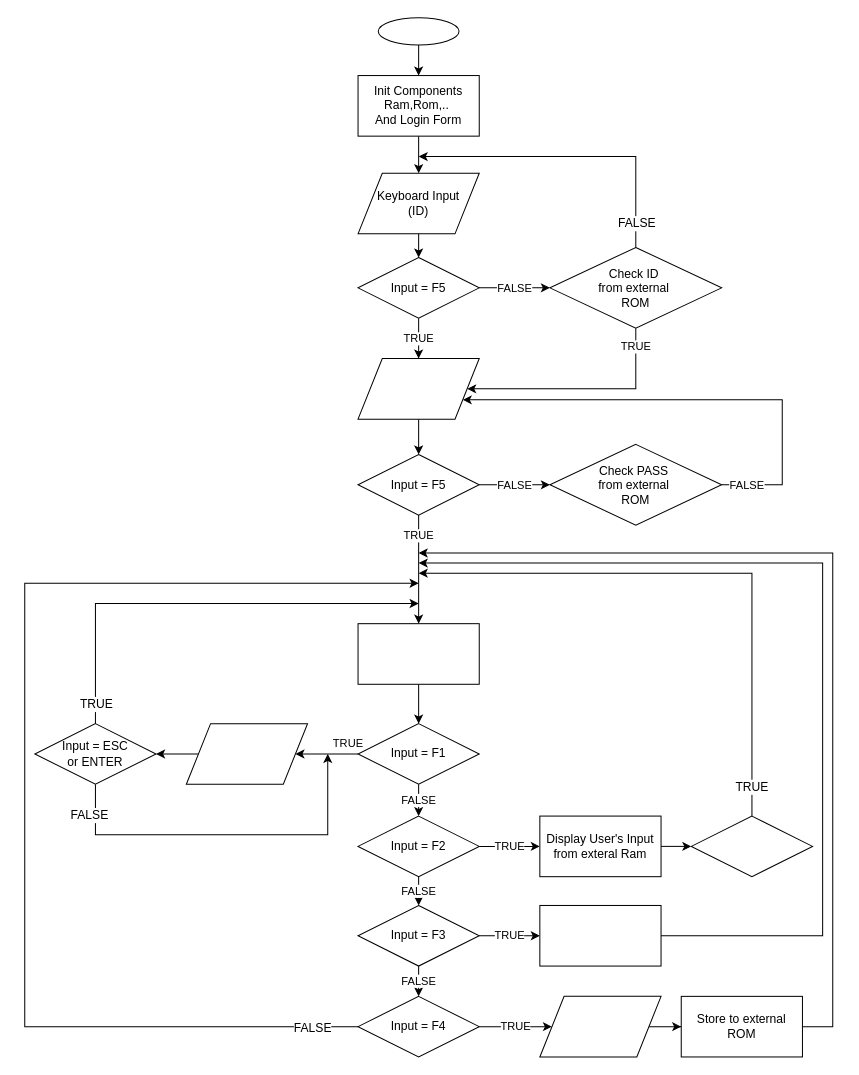
This 859x1075 diagram has some shape labels left out. The shapes that lost their labels are listed below. From the top down, each one's box as (x1, y1, x2, y2) in pixels, then its label:
(377, 17, 459, 45): Start
(357, 358, 479, 419): Keyboard Input (PASSWORD)
(357, 623, 479, 684): Display Selection Mode
(185, 723, 308, 784): Keyboard Input (Text)
(690, 815, 813, 877): Input = ESC
(539, 904, 661, 966): Store default ID & PASS into external ROM
(539, 995, 661, 1057): Keyboard Input (ID & PASS)
